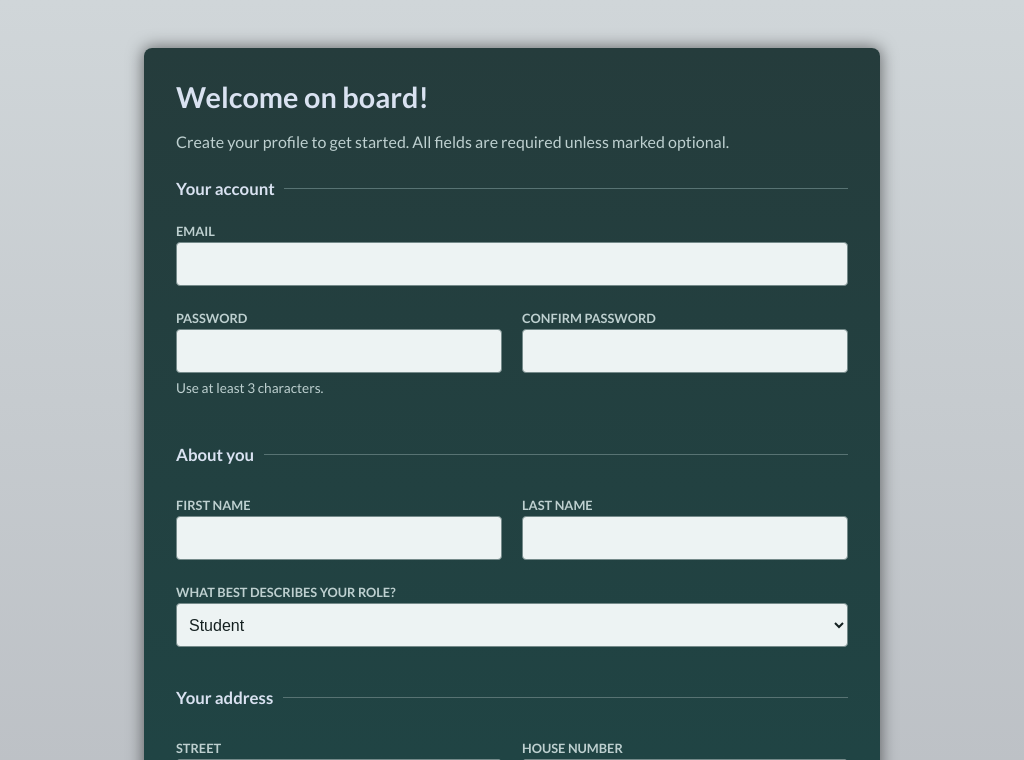
Test: SignupComponent validation › shows password length errors before a mismatch and handles empty confirmation
In the password field labelled "Password": (339, 351) [176,329,502,373], type "a"
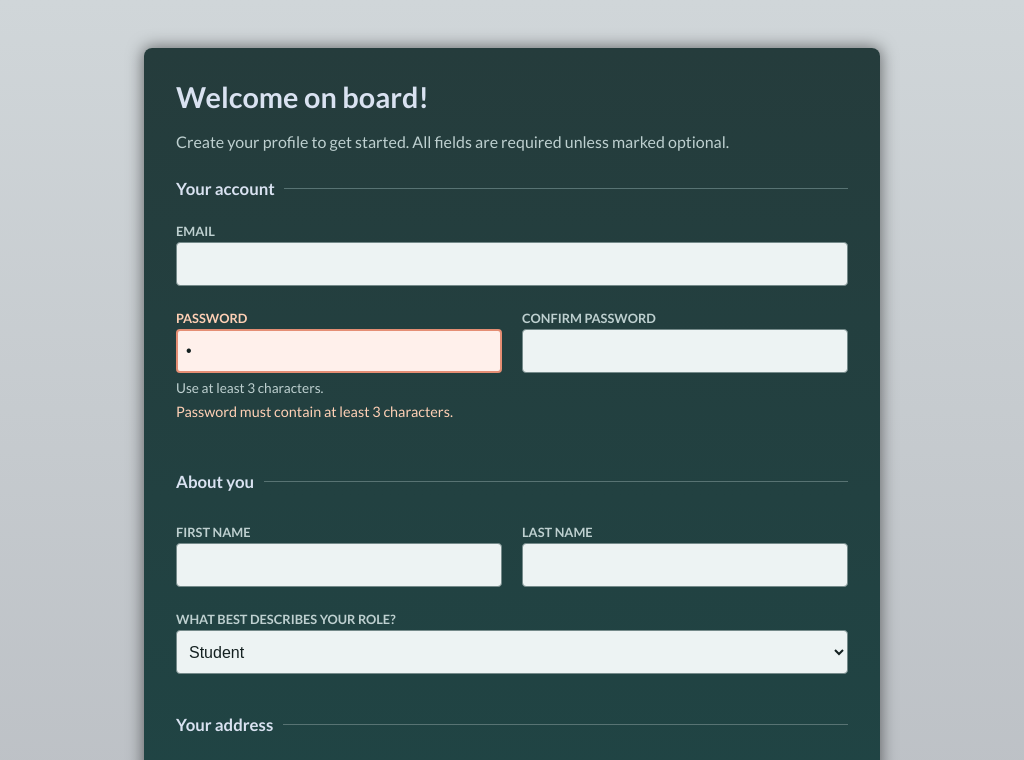
In the password field with id "confirm-password": (685, 351) [522,329,848,373], type "b"
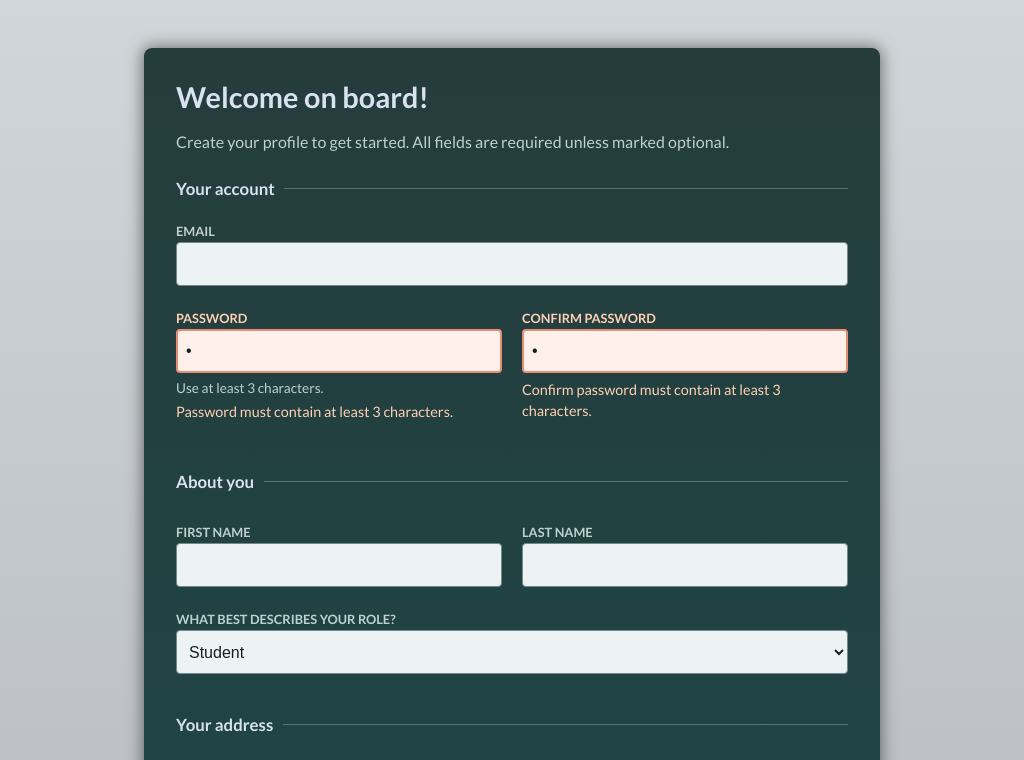
Clear the password field with id "confirm-password": (685, 351) [522,329,848,373]
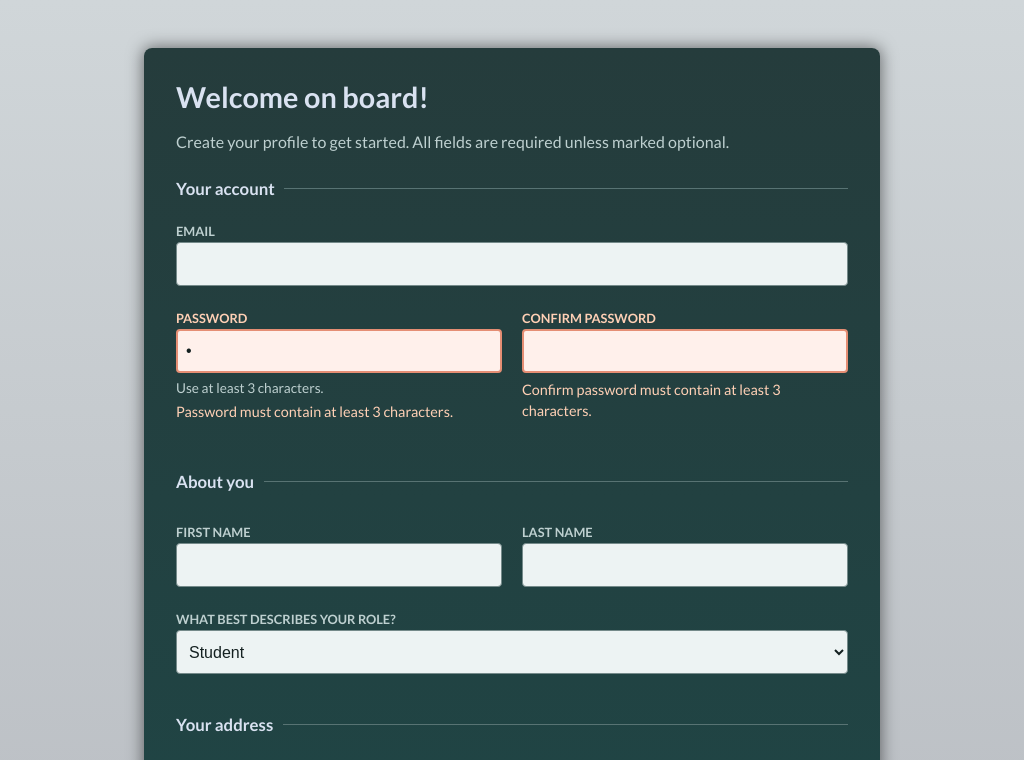
Leave the password field with id "confirm-password", box [522,329,848,373]
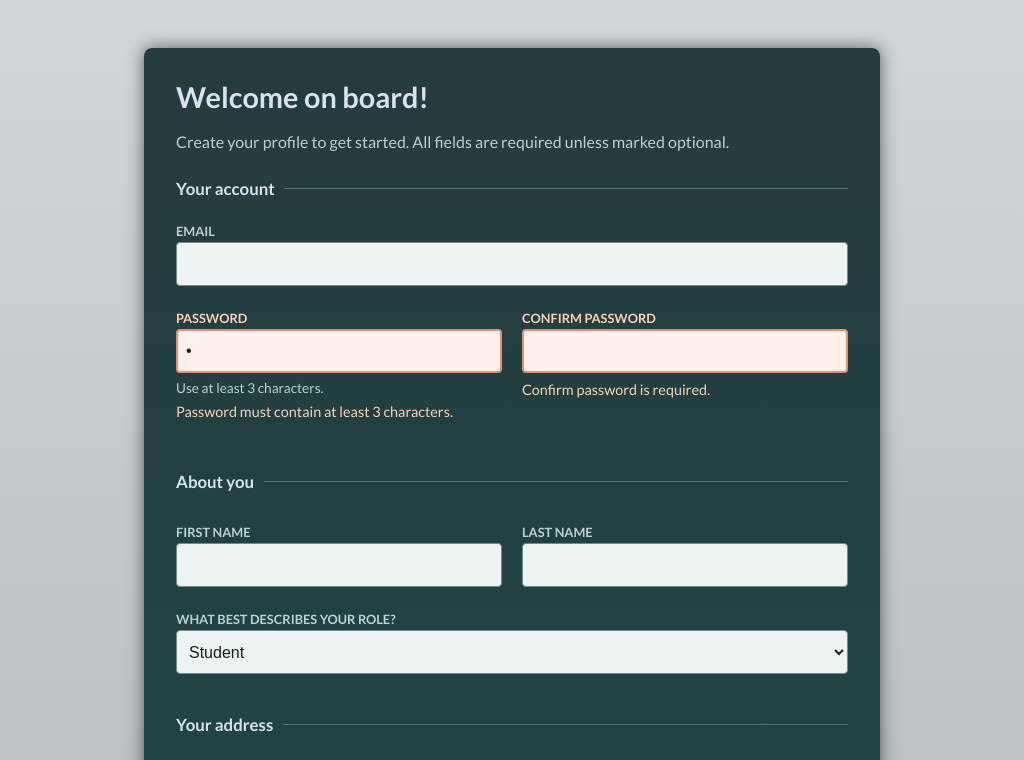
expect the text "Confirm password is required." is shown: met, box [522,381,710,398]
